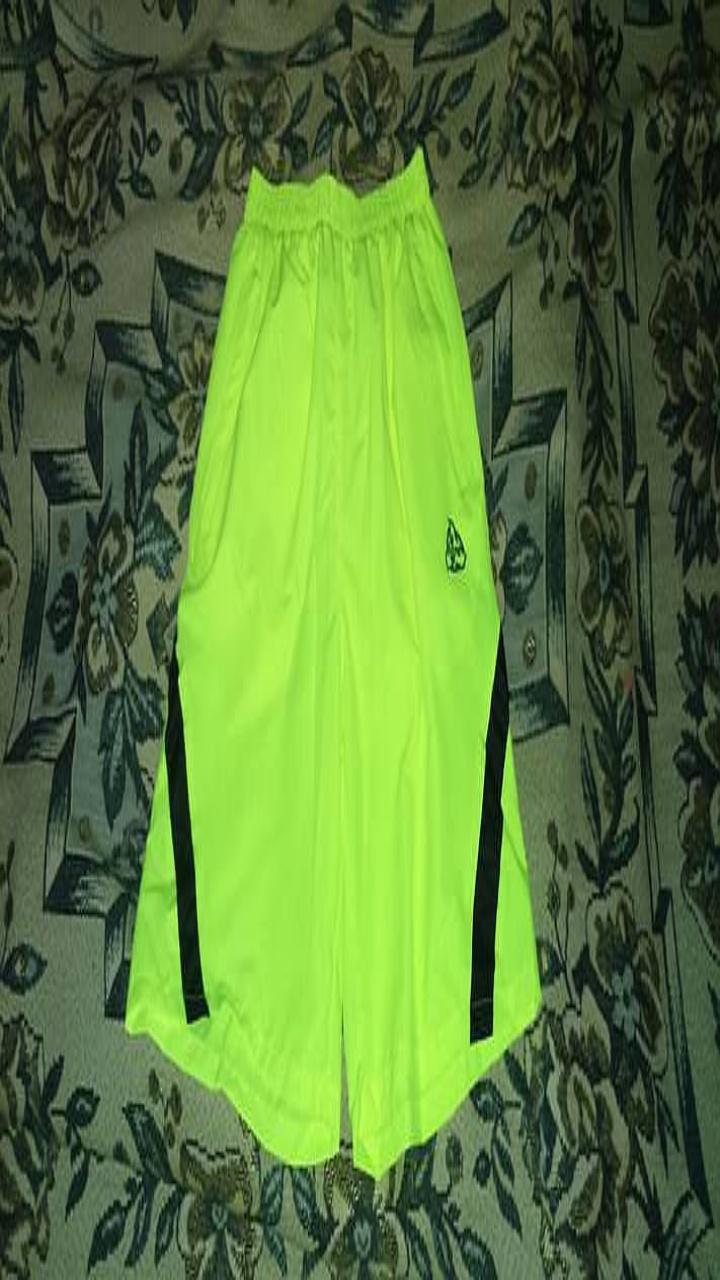Shorts: (125, 148, 540, 1176)
